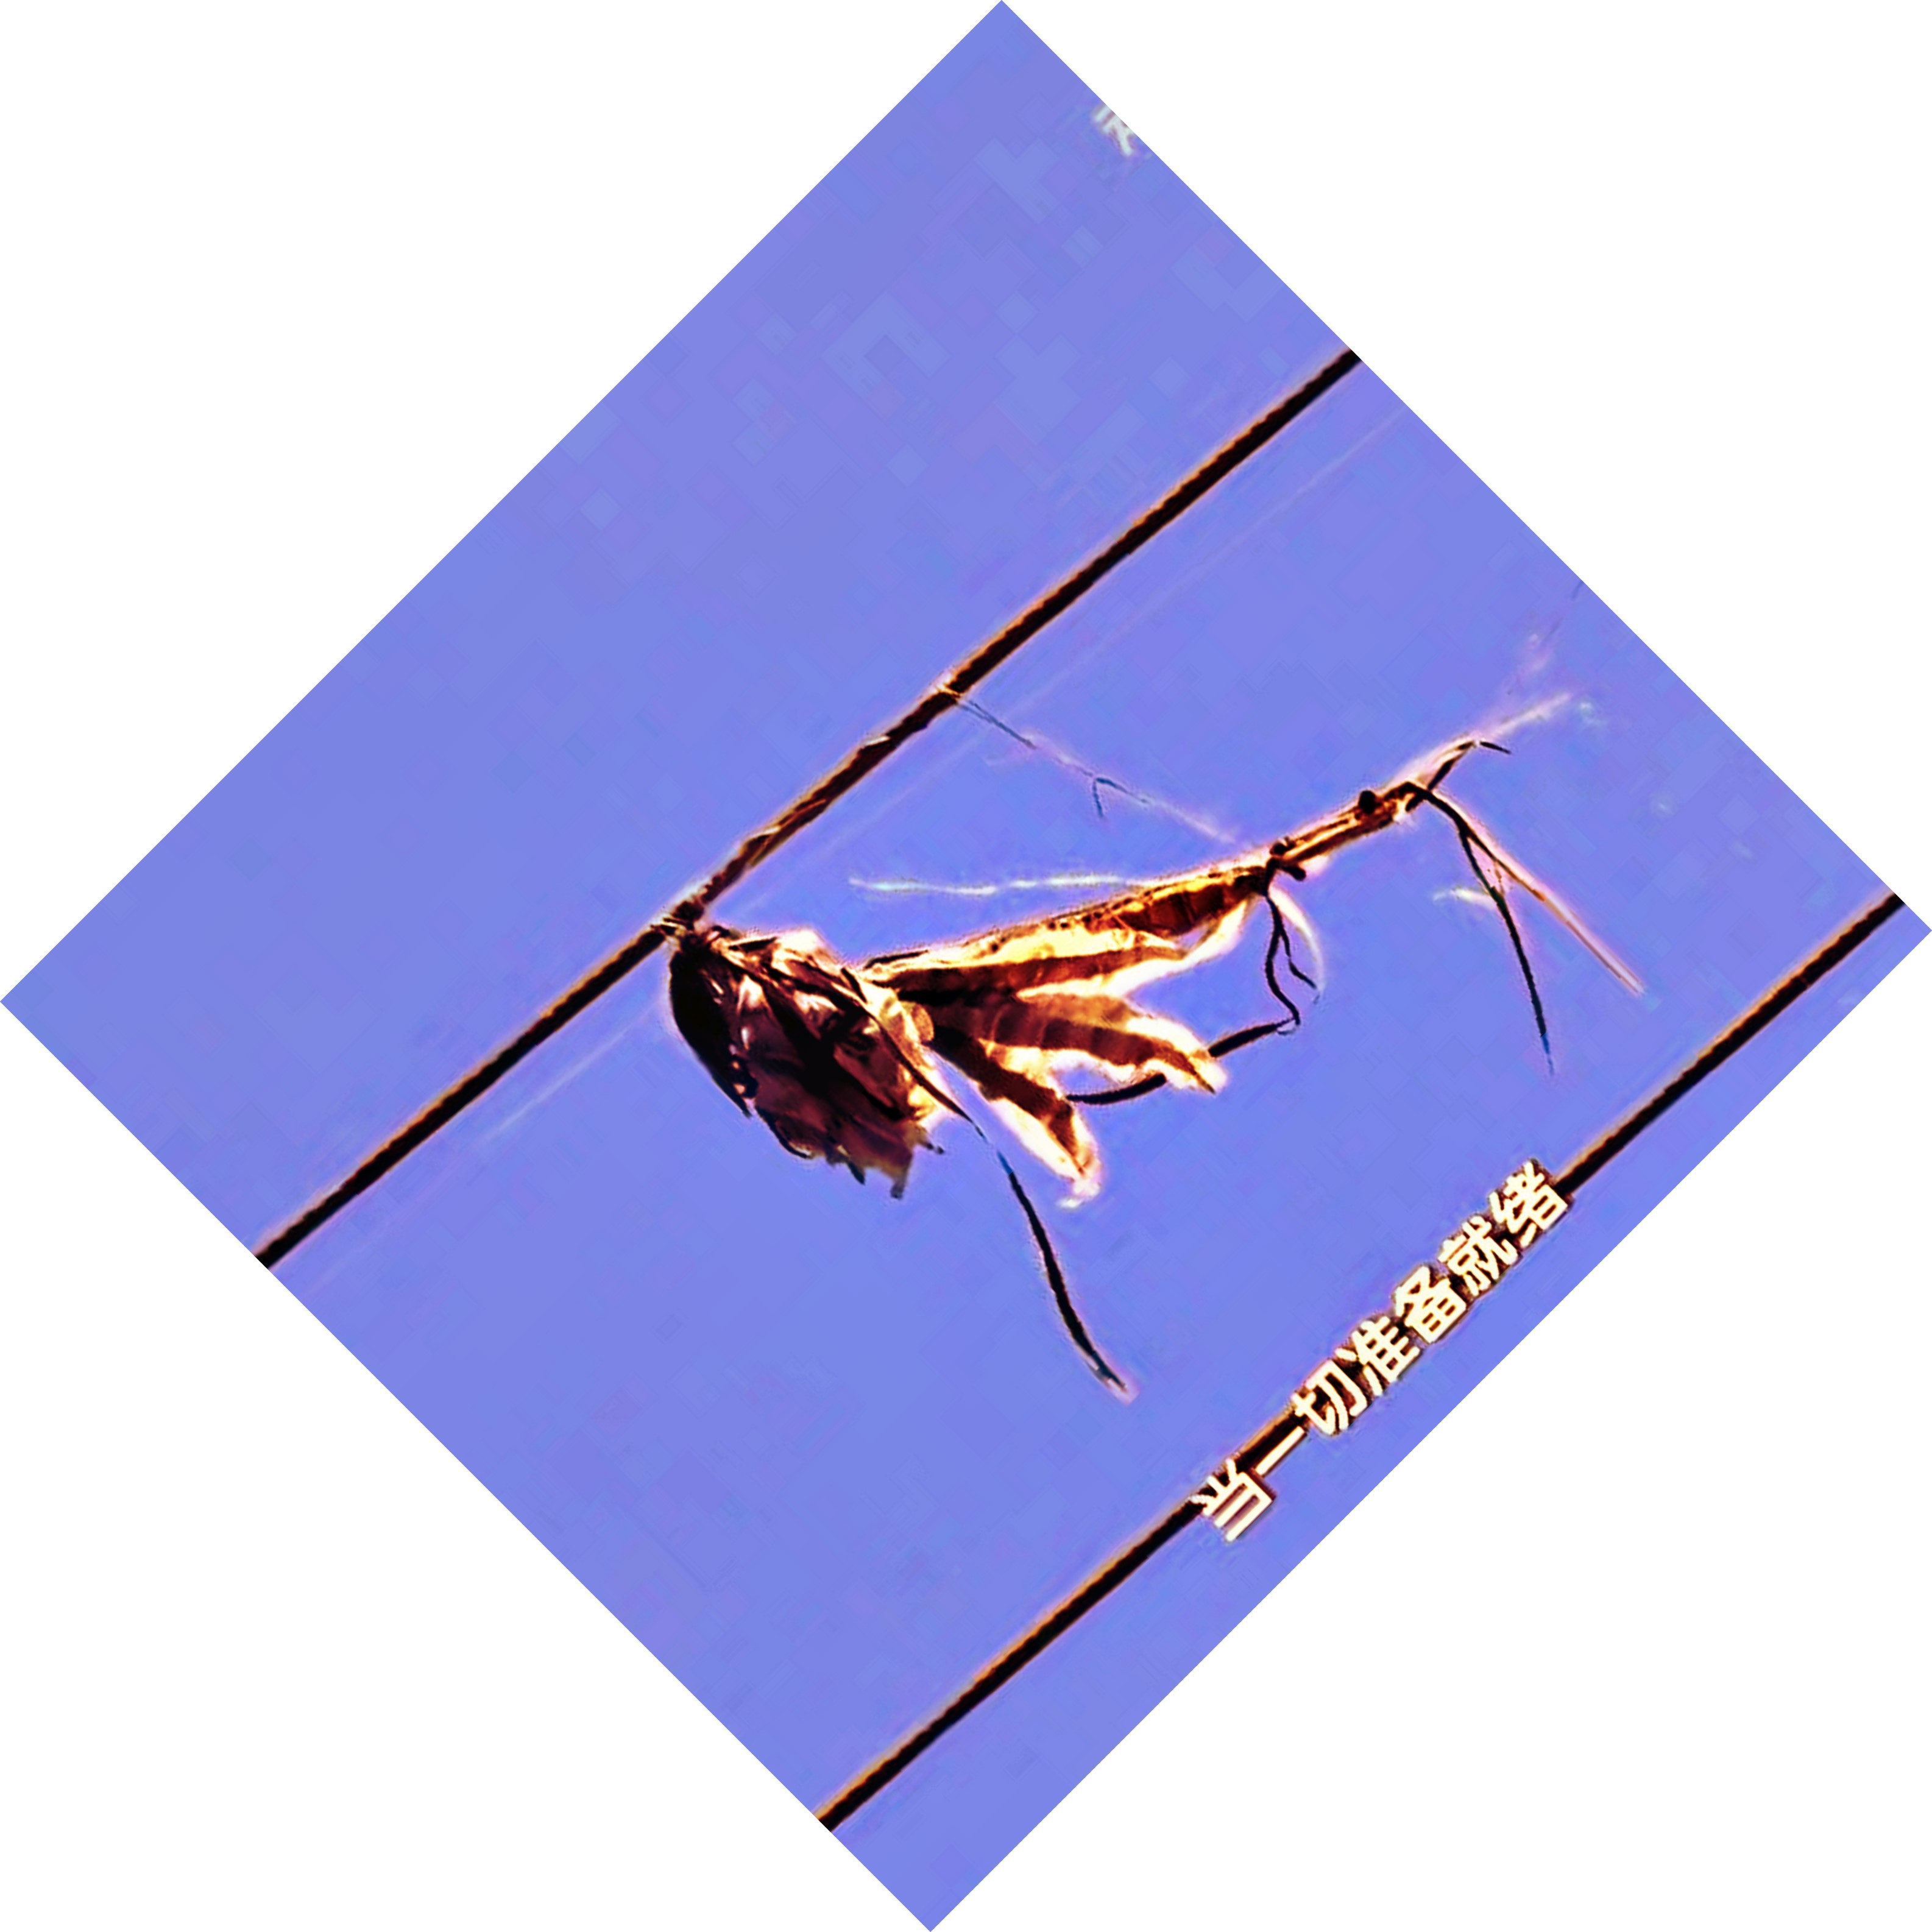wire foreign body: (589, 639, 1405, 1221)
